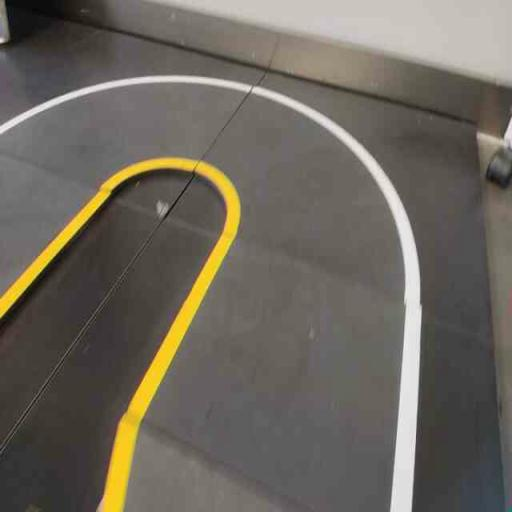left: (163, 63, 479, 317)
